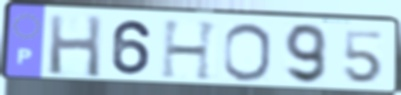5: (340, 28, 385, 85)
6: (111, 18, 156, 78)
9: (281, 23, 329, 87)
H: (158, 19, 222, 83), (46, 13, 104, 80)
O: (221, 21, 273, 84)
